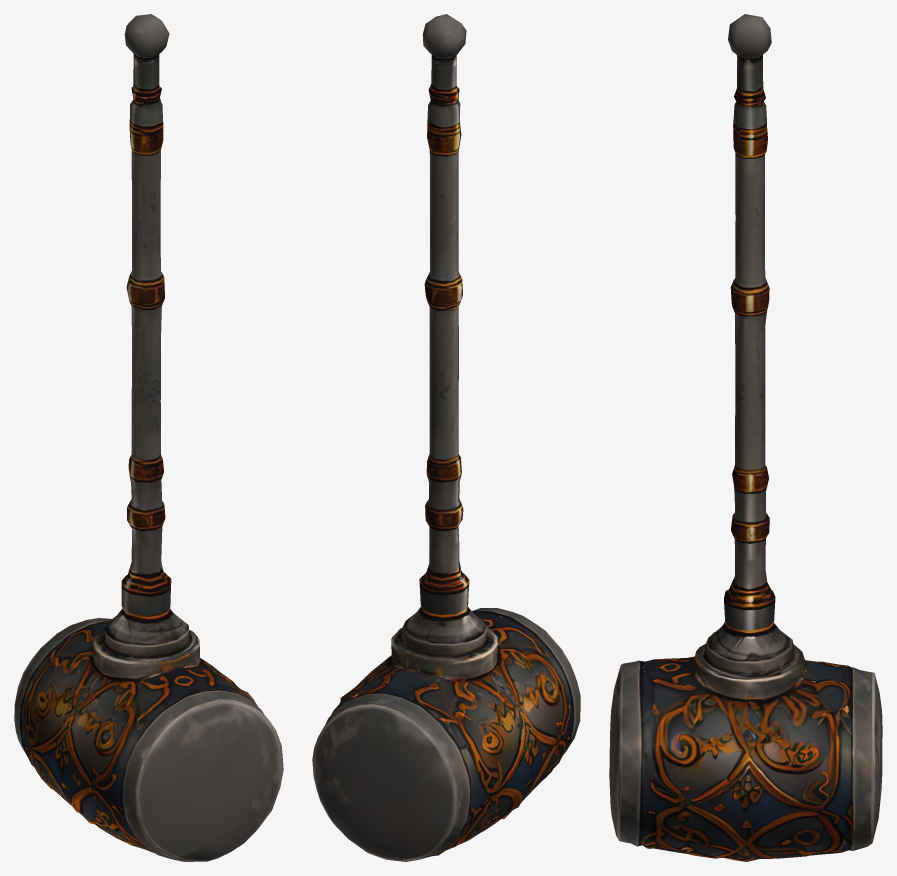
The model's file is meru_hammer.glb.
3 renders of one model, left to right at view 1: azimuth 30°, elevation 25°; view 2: azimuth 150°, elevation 25°; view 3: azimuth 270°, elevation 25°, orthographic. The views are drawn at different scales.
Parts seen in each view (by area): view 1: tripo_node_4ff288a3-f8d9-4b3d-9541-012c607a1ea1; view 2: tripo_node_4ff288a3-f8d9-4b3d-9541-012c607a1ea1; view 3: tripo_node_4ff288a3-f8d9-4b3d-9541-012c607a1ea1.
Boxes of the visible parts, <box> form: tripo_node_4ff288a3-f8d9-4b3d-9541-012c607a1ea1: <box>14,14,283,861</box>; tripo_node_4ff288a3-f8d9-4b3d-9541-012c607a1ea1: <box>312,14,580,861</box>; tripo_node_4ff288a3-f8d9-4b3d-9541-012c607a1ea1: <box>609,14,882,861</box>.
Bounding box in the file's own units: 0.2234 × 1 × 0.2963.
1 material, 1 textured.
